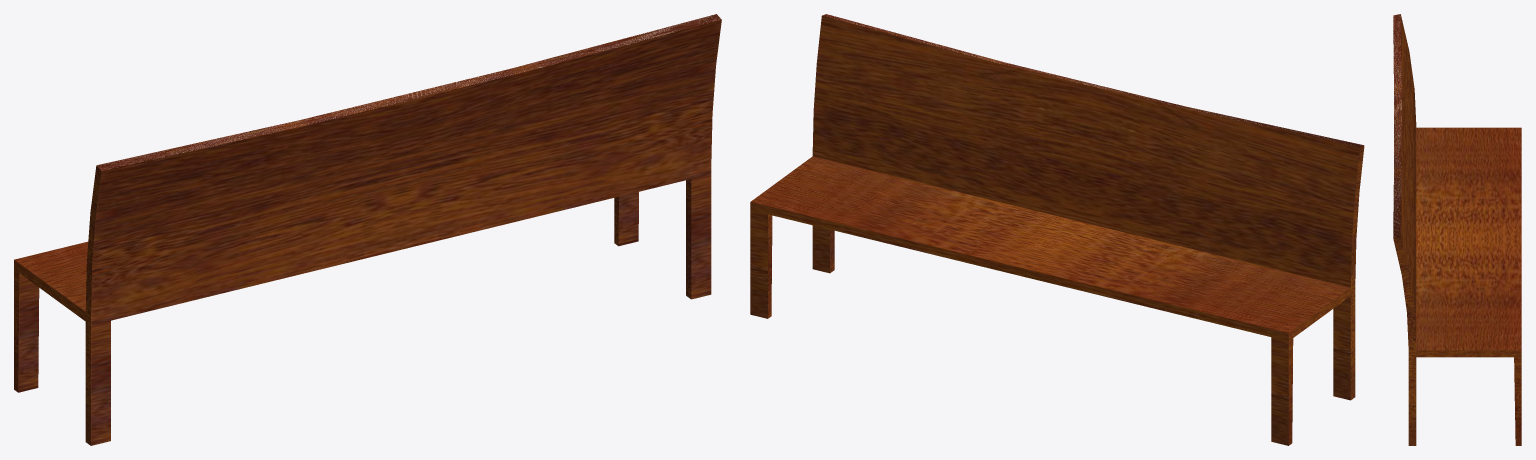
3 views of the same model, side by side, from view 1: azimuth 30°, elevation 25°; view 2: azimuth 150°, elevation 25°; view 3: azimuth 270°, elevation 25° (orthographic). The views are drawn at different scales.
Visible parts, largest first — view 1: mesh5_mesh5-geometry, mesh1_mesh1-geometry; view 2: mesh5_mesh5-geometry, mesh1_mesh1-geometry; view 3: mesh1_mesh1-geometry, mesh5_mesh5-geometry.
Part boxes in pixels (left/top/right/bottom): mesh5_mesh5-geometry: left=14, top=94, right=410, bottom=445; mesh1_mesh1-geometry: left=401, top=14, right=721, bottom=299; mesh5_mesh5-geometry: left=1019, top=84, right=1364, bottom=445; mesh1_mesh1-geometry: left=750, top=14, right=1094, bottom=318; mesh1_mesh1-geometry: left=1393, top=129, right=1521, bottom=445; mesh5_mesh5-geometry: left=1393, top=14, right=1521, bottom=238.
Bounding box in the file's own units: 0.8938 × 0.3918 × 0.2182.
